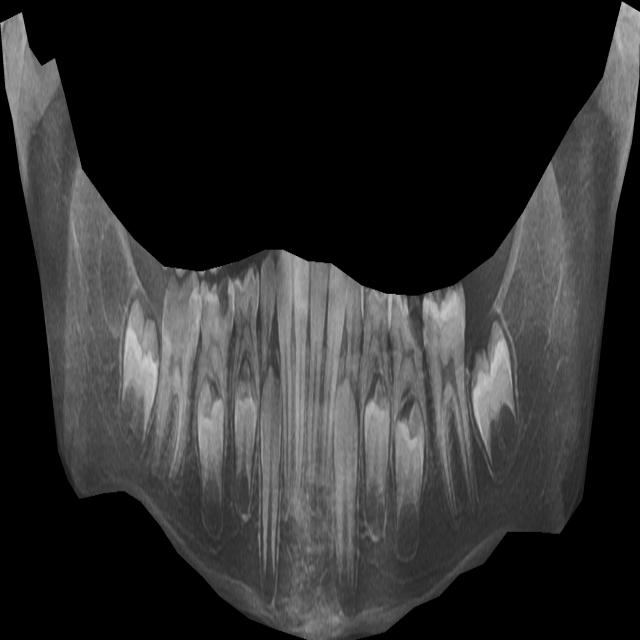mandibula: (0, 1, 640, 640)
